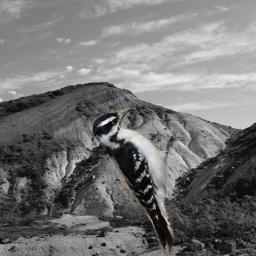Woodpecker: (91, 108, 184, 255)
